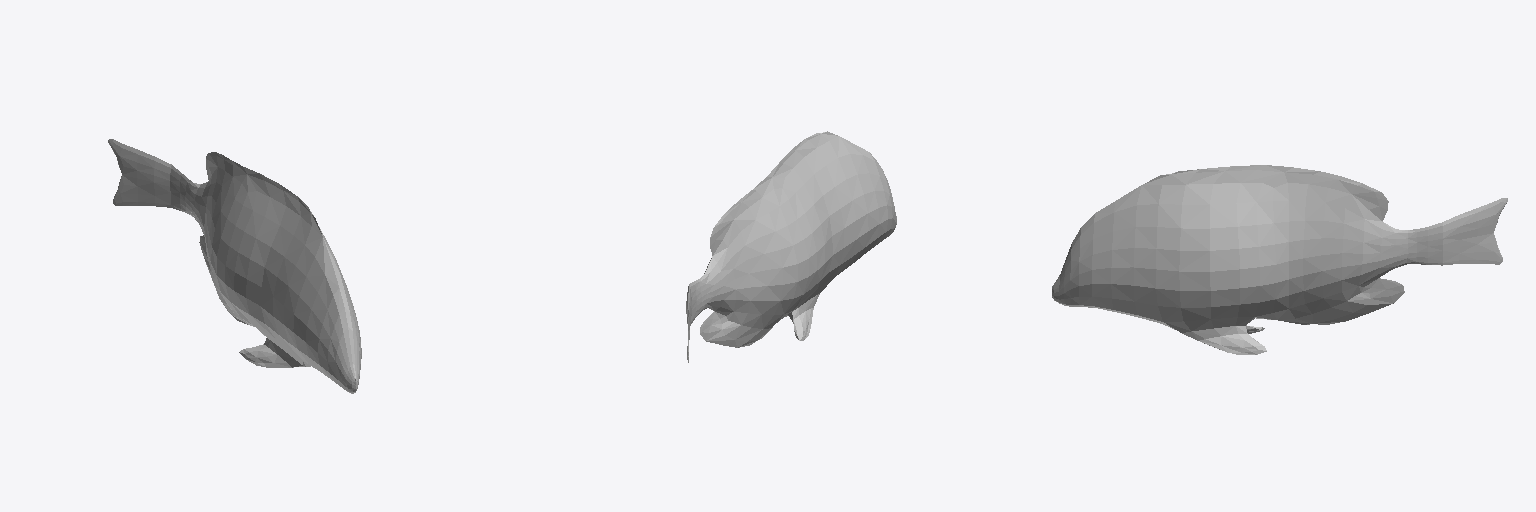
Rendered from reeffish14.obj.
3 renders of one model, left to right at view 1: azimuth 30°, elevation 25°; view 2: azimuth 150°, elevation 25°; view 3: azimuth 270°, elevation 25°, orthographic.
Visible parts, largest first — view 1: Plane; view 2: Plane; view 3: Plane.
Part boxes in pixels (x1,y1,x2,y2): Plane: (108, 139, 361, 393); Plane: (686, 131, 896, 362); Plane: (1052, 165, 1507, 354).
Size of the model in its own units: 1.64 by 3.92 by 9.06.